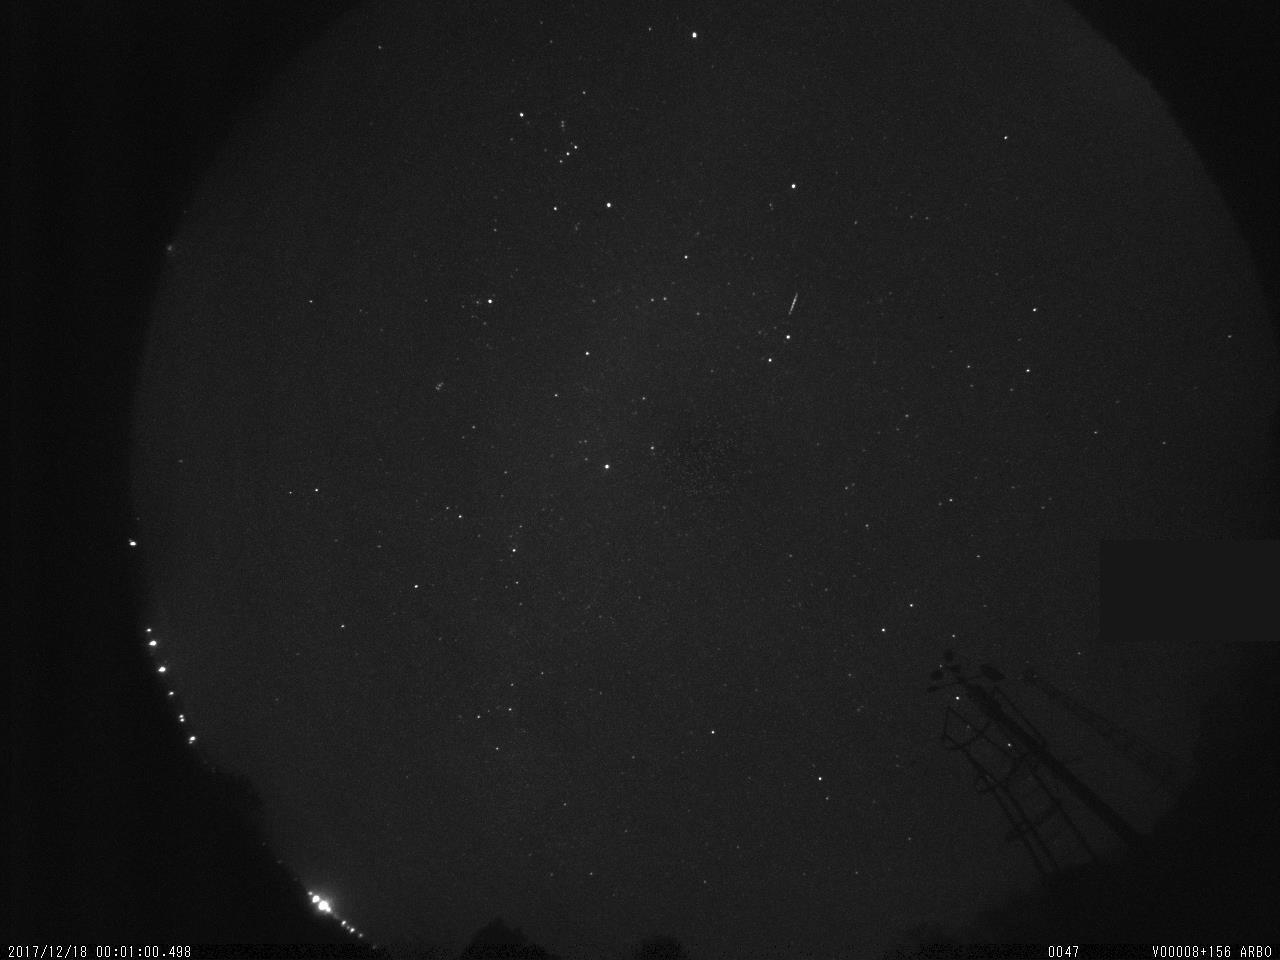meteor: (774, 278, 814, 334)
